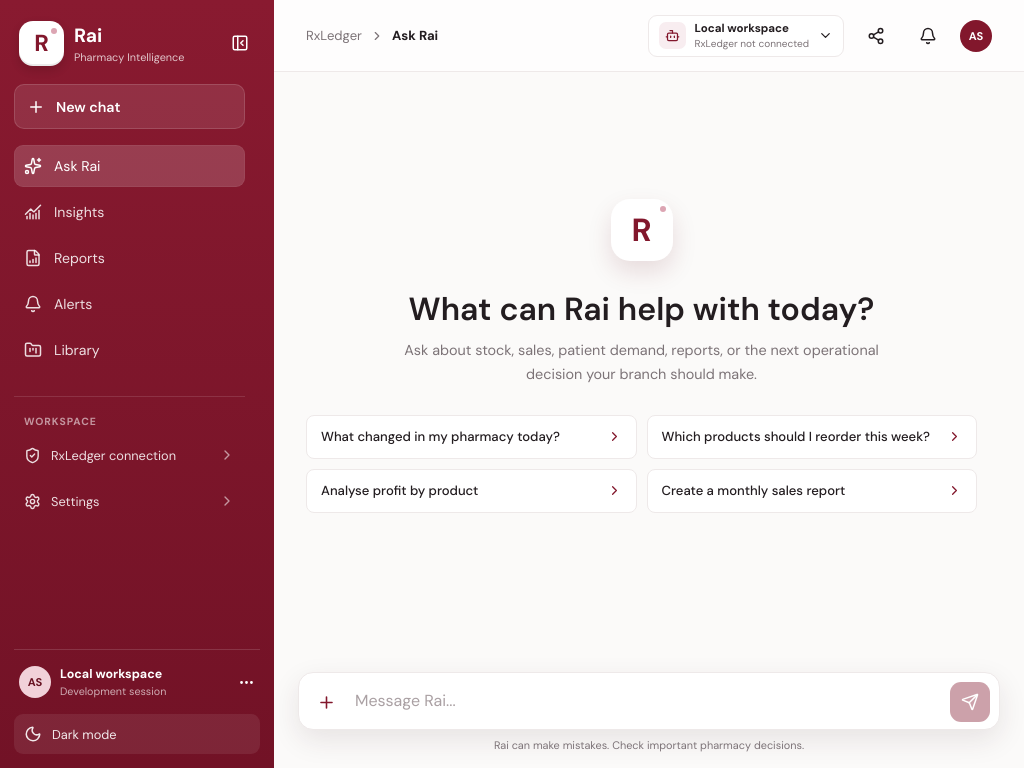
Scenario: Rai notifications, sharing, and local library › adds a notification after a response, marks it read, and clears it
Type "What should I reorder?" into the text box named "Ask Rai".
click(648, 701); type("What should I reorder?")  # box 351,680 -> 945,722
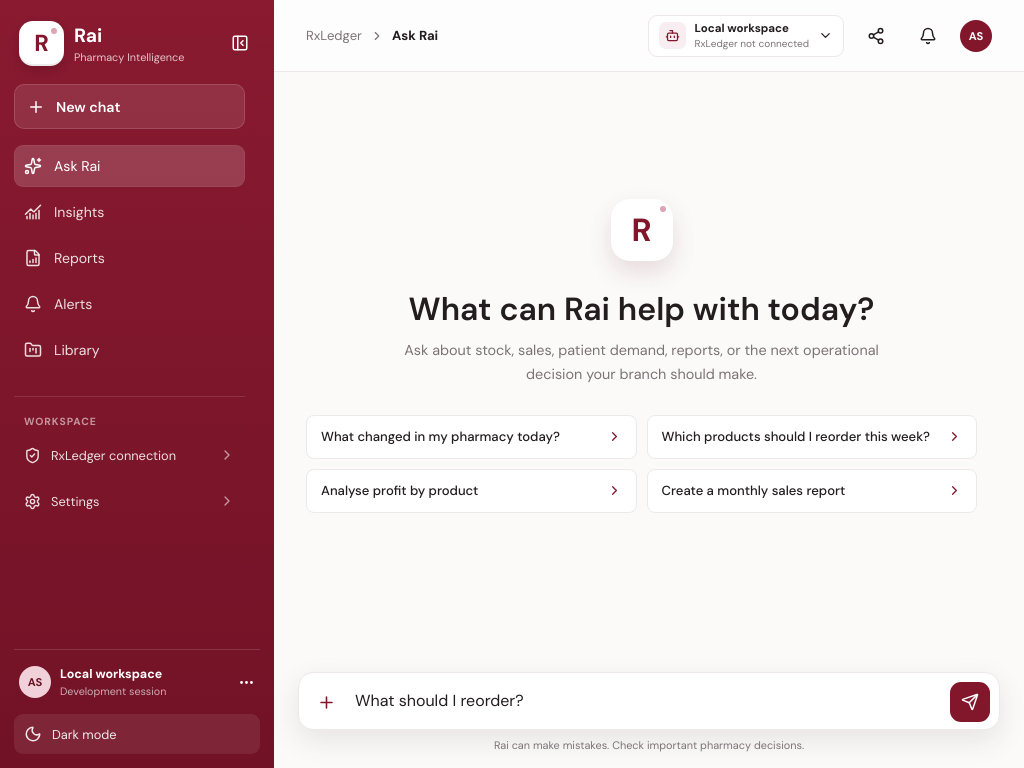
Click the button named "Send message".
click(970, 702)  # box 950,682 -> 990,722
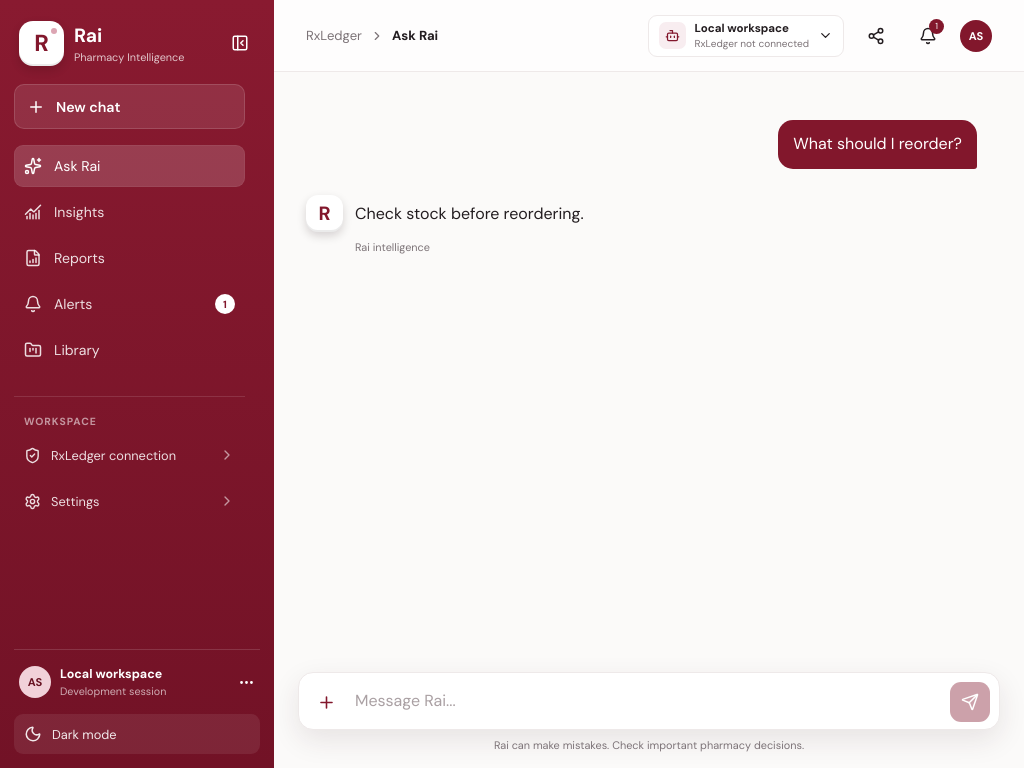
Result: the text "Check stock before reordering." is shown at 355,201 -> 584,226
Result: the 1st text "1" is shown at 929,18 -> 944,34
Result: the 2nd text "1" is shown at 215,294 -> 235,314
Click the button named "Notifications".
click(928, 36)  # box 908,16 -> 948,56
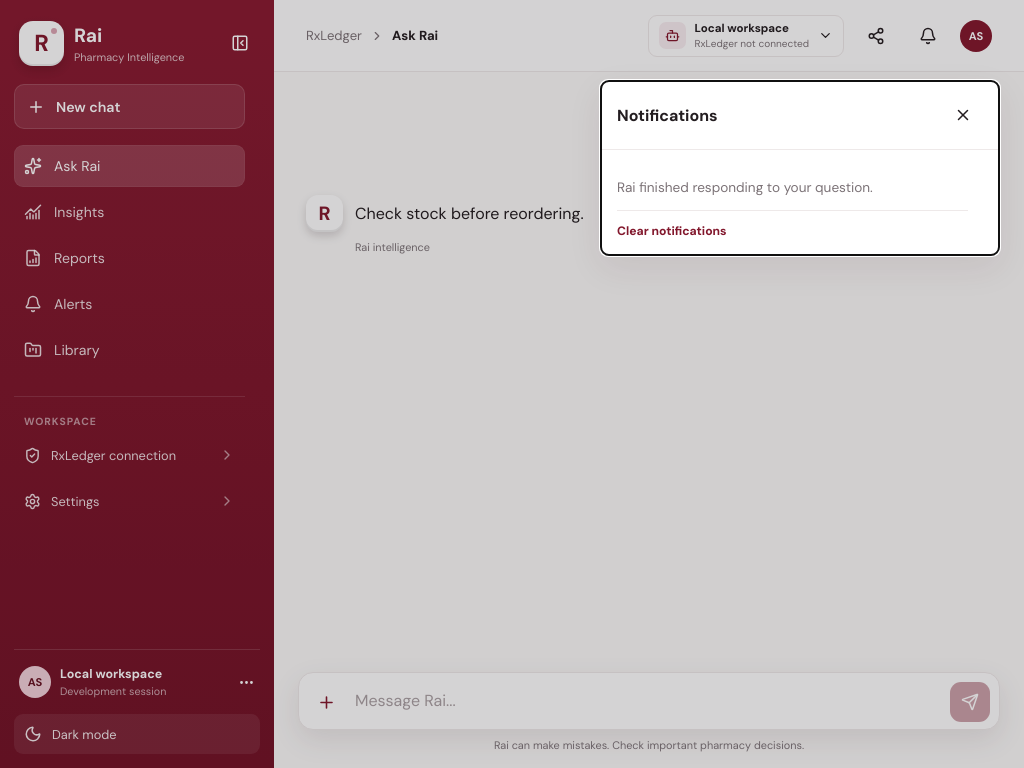
Result: the text "Rai finished responding to your question." is shown at 617,166 -> 968,211
Result: the text "1" is gone
Click the button "Clear notifications".
click(672, 231)  # box 617,223 -> 968,239
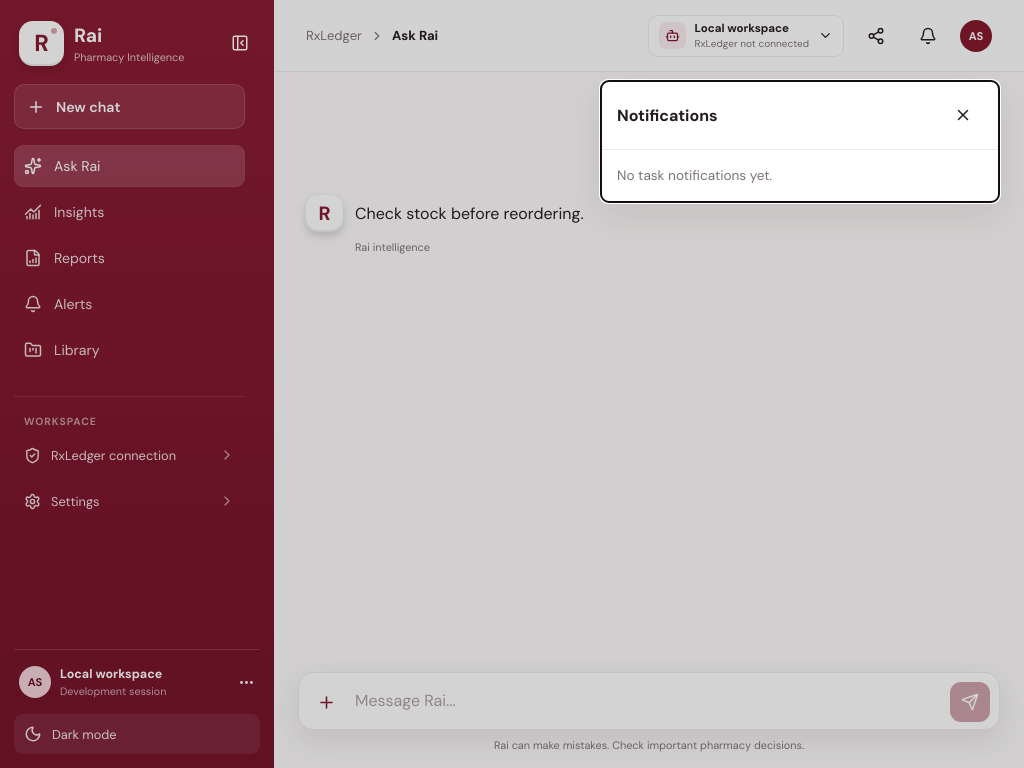
Result: the text "No task notifications yet." is shown at 617,167 -> 772,184
